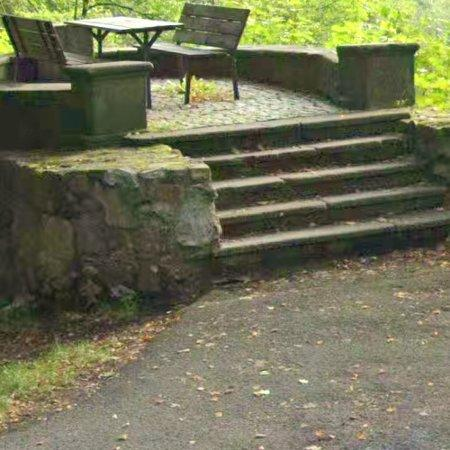stairs: (124, 109, 450, 253)
